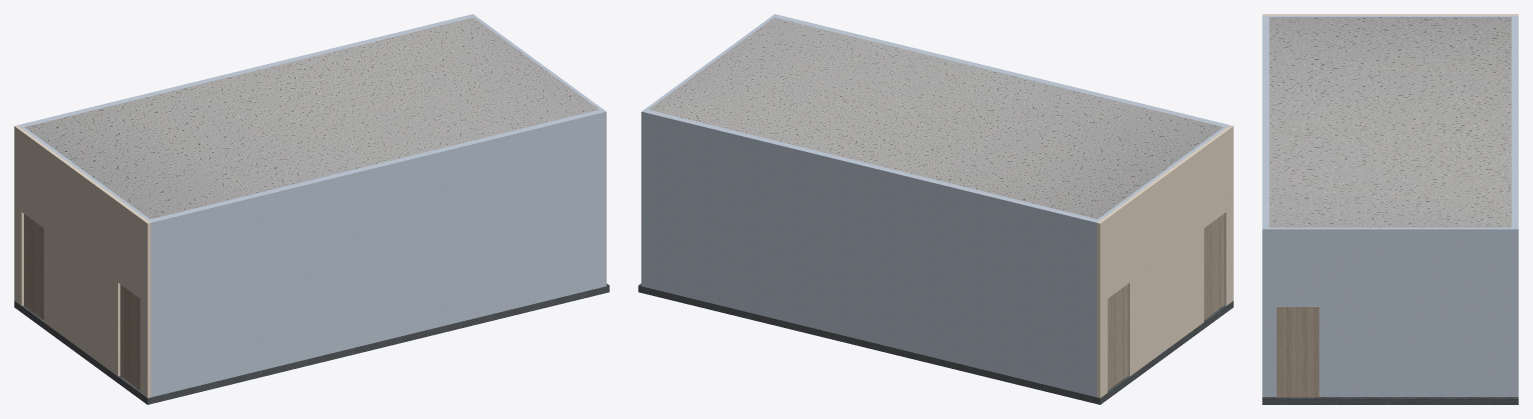
File: bodyshape.glb
The picture shows the model from 3 angles, left to right: view 1: azimuth 30°, elevation 25°; view 2: azimuth 150°, elevation 25°; view 3: azimuth 270°, elevation 25°; orthographic projection. The views are drawn at different scales.
Visible parts, largest first — view 1: 默认; view 2: 默认; view 3: 默认.
Part boxes in pixels (left/top/right/bottom): 默认: left=14, top=14, right=609, bottom=404; 默认: left=638, top=14, right=1233, bottom=404; 默认: left=1262, top=14, right=1518, bottom=404.
Size of the model in its own units: 9.3 by 3.49 by 4.65.
6 materials, 6 textured.
